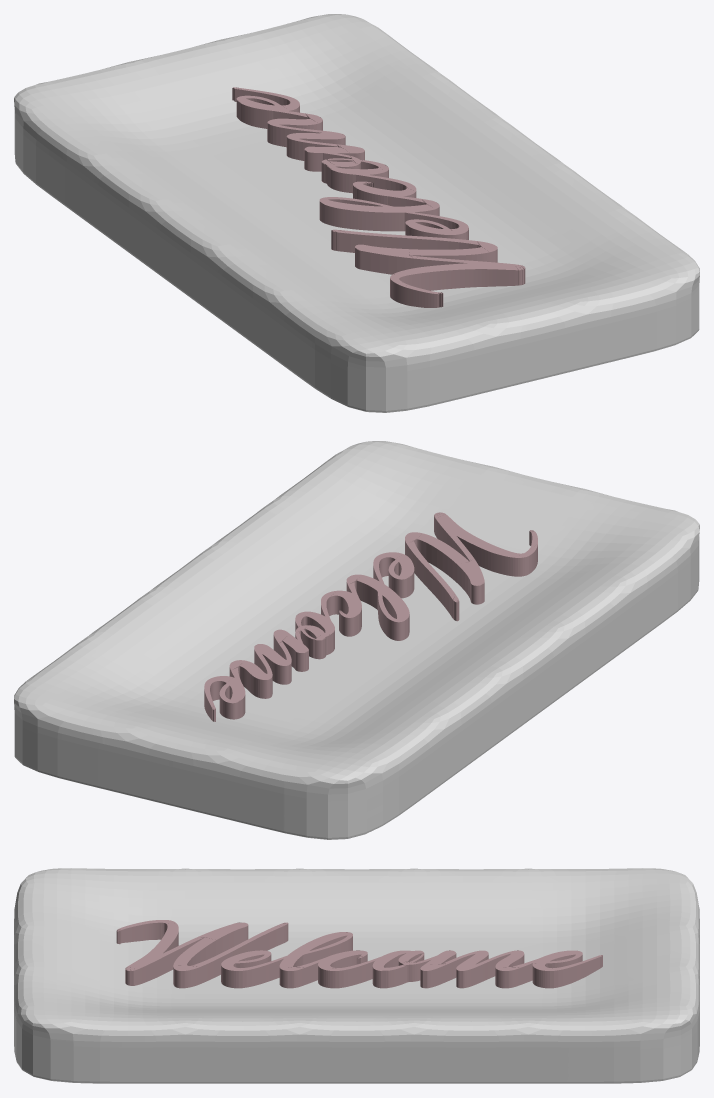
The picture shows the model from 3 angles, top to bottom: view 1: azimuth 30°, elevation 25°; view 2: azimuth 150°, elevation 25°; view 3: azimuth 270°, elevation 25°; orthographic projection. The views are drawn at different scales.
Visible parts, largest first — view 1: mat, text; view 2: mat, text; view 3: mat, text.
Boxes of the visible parts, left/top/right/bottom form: mat: left=14, top=14, right=699, bottom=412; text: left=232, top=87, right=525, bottom=307; mat: left=14, top=441, right=699, bottom=839; text: left=204, top=512, right=537, bottom=721; mat: left=14, top=868, right=699, bottom=1083; text: left=116, top=920, right=602, bottom=988.
Size of the model in its own units: 87.21 by 8.5 by 49.19.
